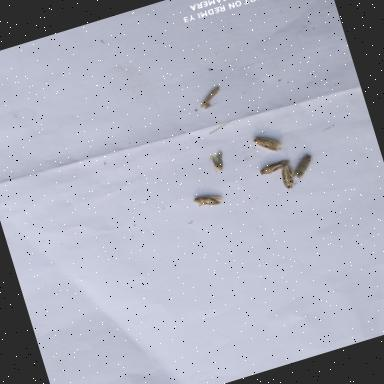pbw: (246, 124, 288, 160), (284, 150, 323, 184), (187, 186, 227, 215), (252, 154, 296, 180), (276, 160, 304, 194), (195, 83, 227, 110), (206, 148, 230, 174)
